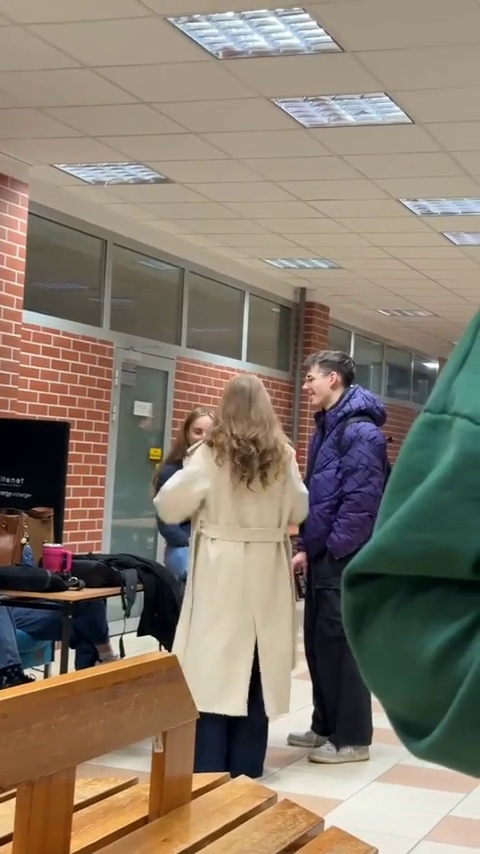no vest: (175, 368, 303, 728), (295, 341, 385, 727)
